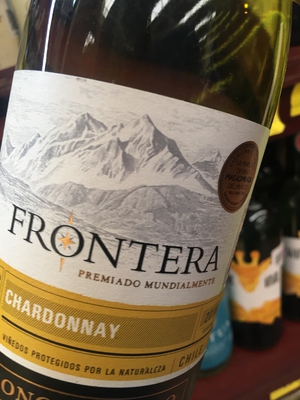frontera chardonnay: (2, 14, 284, 400)
